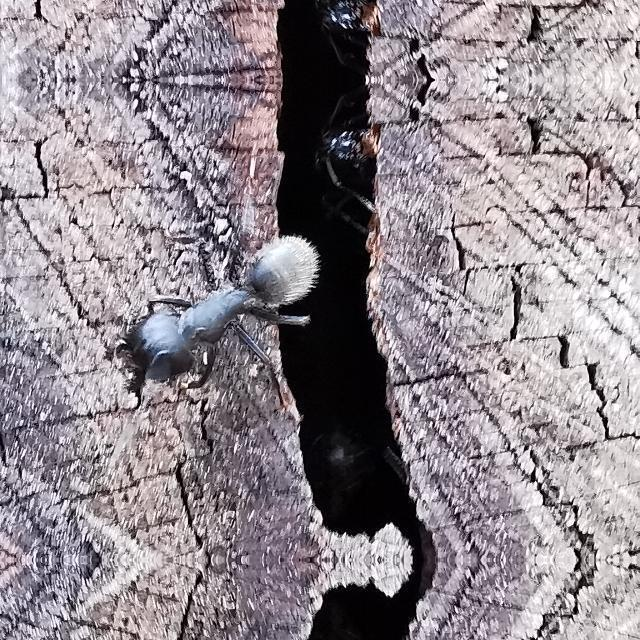Camponotus: (101, 210, 351, 410), (294, 80, 408, 226), (294, 0, 408, 80)
